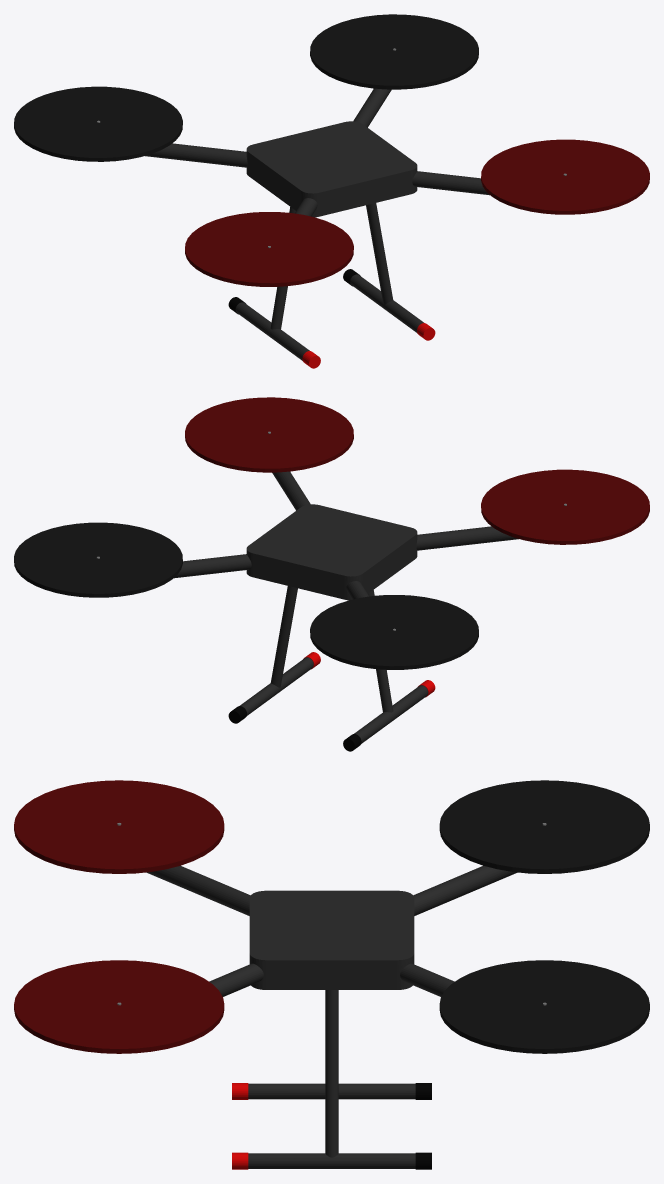
File: griffin.dae
3 renders of one model, top to bottom at view 1: azimuth 30°, elevation 25°; view 2: azimuth 150°, elevation 25°; view 3: azimuth 270°, elevation 25°, orthographic. The views are drawn at different scales.
Visible parts, largest first — view 1: node1, node13, node15, node14, node16; view 2: node1, node14, node16, node15, node13; view 3: node1, node13, node16, node14, node15.
Part boxes in pixels (bbox=[...]): node1: bbox=[145, 88, 489, 360]; node13: bbox=[14, 86, 182, 161]; node15: bbox=[310, 14, 478, 89]; node14: bbox=[481, 139, 649, 214]; node16: bbox=[185, 212, 353, 286]; node1: bbox=[174, 471, 518, 743]; node14: bbox=[185, 397, 353, 472]; node16: bbox=[481, 469, 649, 544]; node15: bbox=[14, 522, 182, 597]; node13: bbox=[310, 595, 478, 669]; node1: bbox=[146, 865, 517, 1168]; node13: bbox=[439, 780, 649, 873]; node16: bbox=[14, 780, 224, 873]; node14: bbox=[14, 960, 224, 1053]; node15: bbox=[439, 960, 649, 1053].
Size of the model in its own units: 0.967 by 0.967 by 0.3699.
